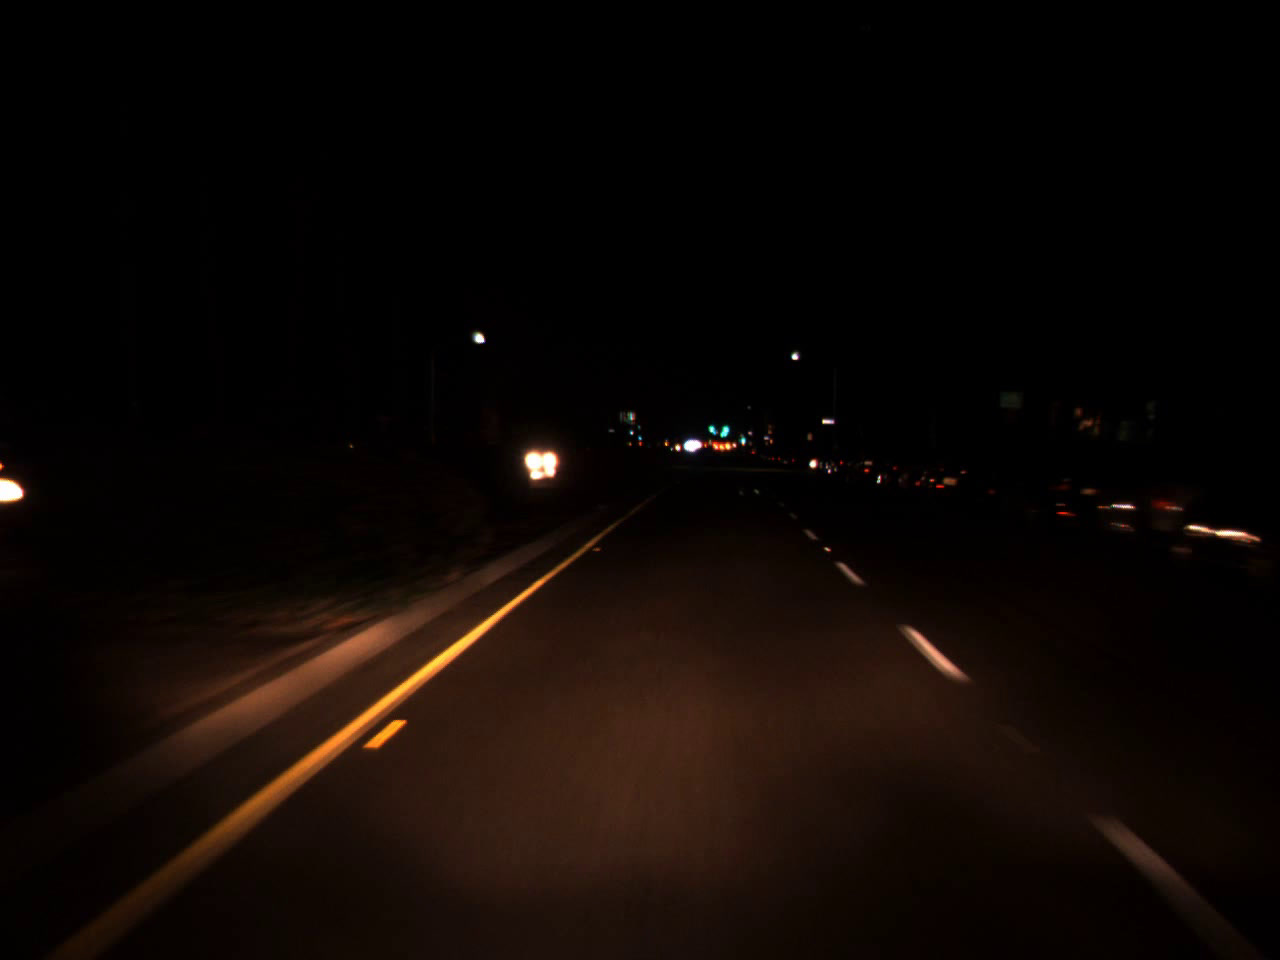go: (719, 413, 729, 440), (708, 415, 715, 436), (739, 430, 746, 445)
